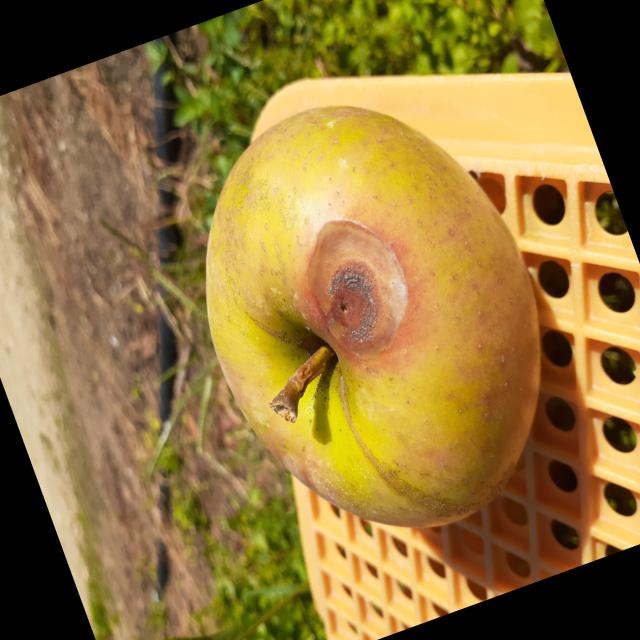rotten: (138, 51, 611, 595)
